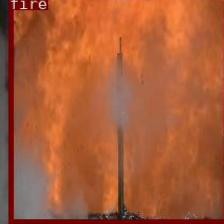fire: (8, 0, 224, 223)
